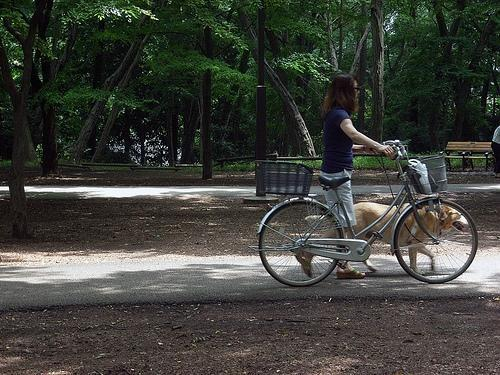bicycle: (256, 139, 478, 286)
